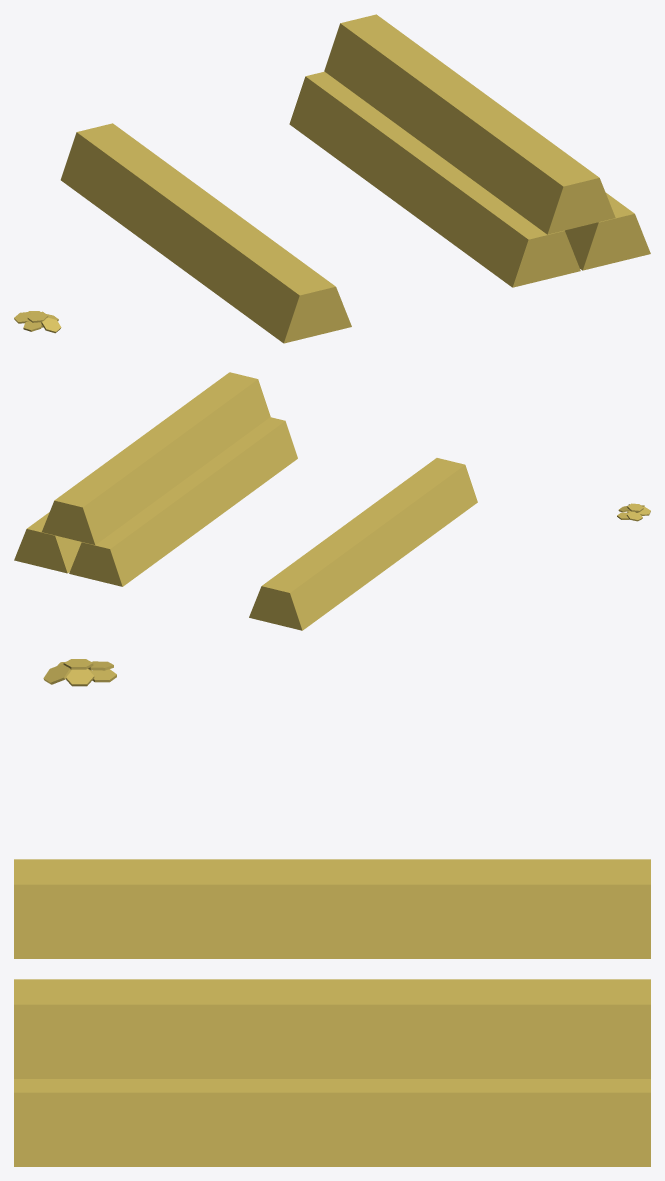
The model's file is FBX__GOLD.fbx.
3 views of the same model, one above another, from view 1: azimuth 30°, elevation 25°; view 2: azimuth 150°, elevation 25°; view 3: azimuth 270°, elevation 25° (orthographic). The views are drawn at different scales.
Visible parts, largest first — view 1: pCube4, alone_staaf, pCube2, pCube3; view 2: pCube4, alone_staaf, pCube2, pCube3; view 3: alone_staaf, pCube4, pCube3.
Boxes of the visible parts, bbox=[...] form: pCube4: bbox=[324, 14, 615, 234]; alone_staaf: bbox=[60, 123, 351, 343]; pCube2: bbox=[289, 71, 580, 287]; pCube3: bbox=[565, 192, 650, 270]; pCube4: bbox=[42, 372, 270, 545]; alone_staaf: bbox=[249, 458, 477, 630]; pCube2: bbox=[69, 417, 297, 586]; pCube3: bbox=[14, 512, 81, 573]; alone_staaf: bbox=[14, 859, 650, 958]; pCube4: bbox=[14, 979, 650, 1078]; pCube3: bbox=[14, 1079, 650, 1166].
Size of the model in its own units: 1.57 by 0.2192 by 1.
